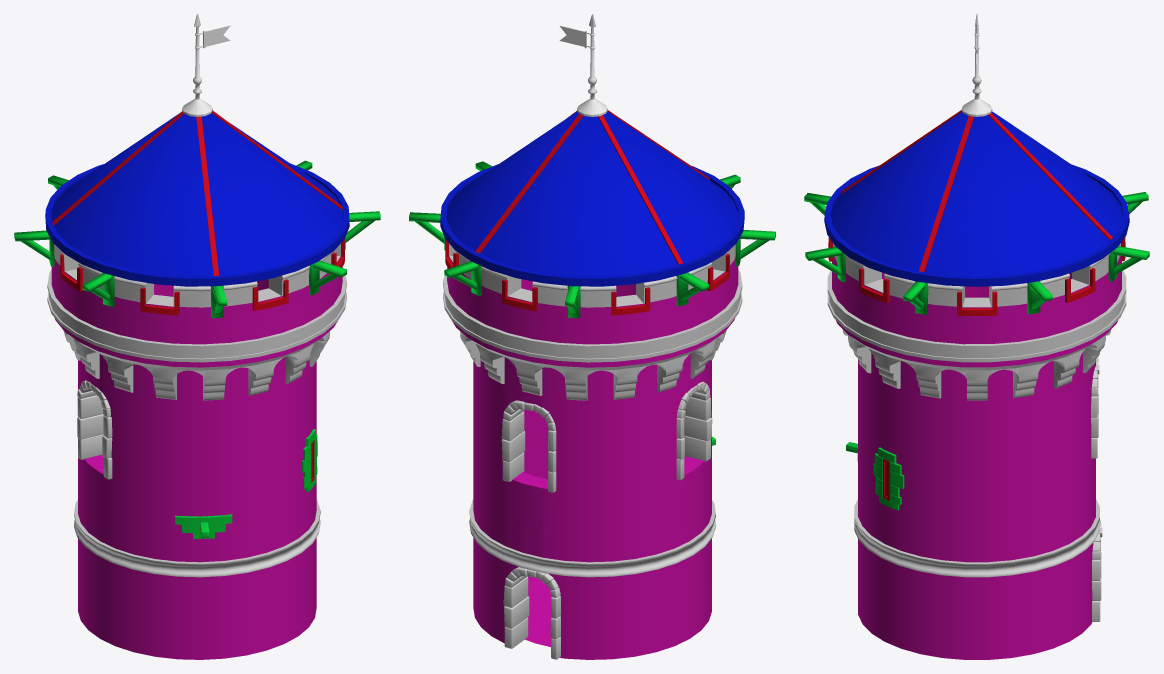
File: Tower_2 (1).fbx
The picture shows the model from 3 angles, left to right: view 1: azimuth 30°, elevation 25°; view 2: azimuth 150°, elevation 25°; view 3: azimuth 270°, elevation 25°; orthographic projection.
Parts seen in each view (by area): view 1: Tower_1.004, Group_4.010, Group_4.011, Group_2, Group_2.007; view 2: Tower_1.004, Group_4.010, Group_4.011; view 3: Tower_1.004, Group_4.010, Group_2.007, Group_4.011.
Part boxes in pixels (x1,y1,x2,y2): Tower_1.004: (47, 239, 346, 659); Group_4.010: (14, 111, 380, 318); Group_4.011: (182, 14, 230, 116); Group_2: (175, 514, 232, 538); Group_2.007: (301, 429, 317, 491); Tower_1.004: (443, 239, 742, 659); Group_4.010: (409, 110, 775, 318); Group_4.011: (559, 14, 607, 116); Tower_1.004: (827, 237, 1126, 659); Group_4.010: (804, 110, 1149, 314); Group_2.007: (873, 447, 904, 510); Group_4.011: (961, 14, 992, 116).
Bounding box in the file's own units: 932 × 1774 × 932.
